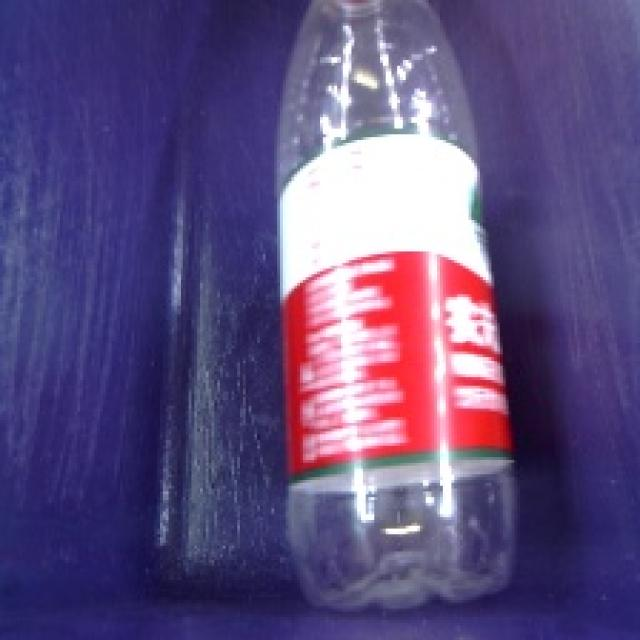plastic: (237, 0, 552, 623)
